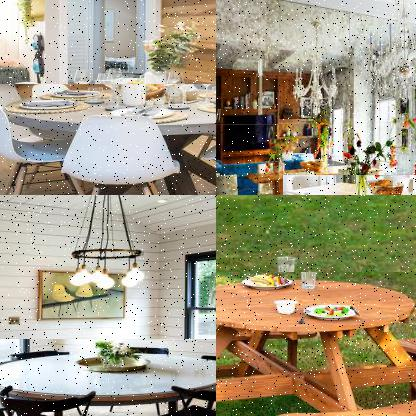table: (216, 272, 415, 415), (0, 84, 215, 194), (0, 338, 215, 415)
